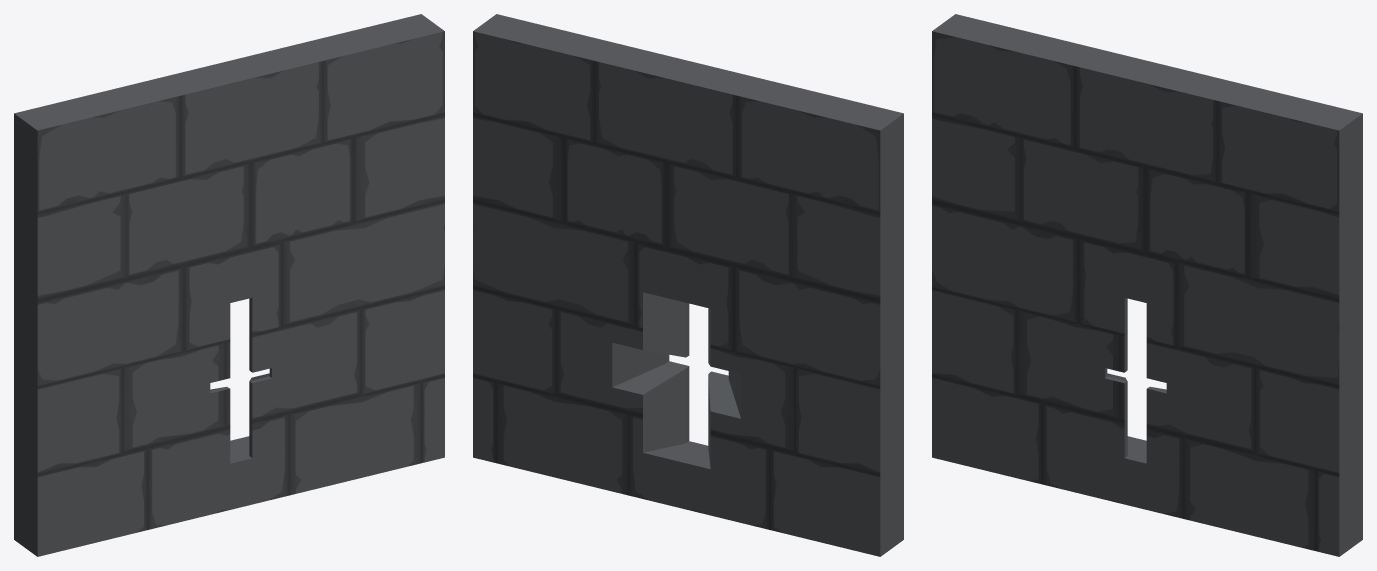
File: castle_wall_arrowslit.gltf
3 renders of one model, left to right at view 1: azimuth 30°, elevation 25°; view 2: azimuth 150°, elevation 25°; view 3: azimuth 330°, elevation 25°, orthographic.
Parts seen in each view (by area): view 1: castle_wall_arrowslit; view 2: castle_wall_arrowslit; view 3: castle_wall_arrowslit.
Boxes of the visible parts, <box> form: castle_wall_arrowslit: <box>14,14,444,556</box>; castle_wall_arrowslit: <box>473,14,903,556</box>; castle_wall_arrowslit: <box>932,14,1362,556</box>.
Bounding box in the file's own units: 5 × 5 × 0.5.
Materials: 1 (1 with a texture image).
